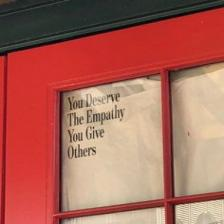red: (5, 8, 224, 224), (53, 192, 224, 220), (160, 69, 175, 199), (166, 204, 175, 224)
